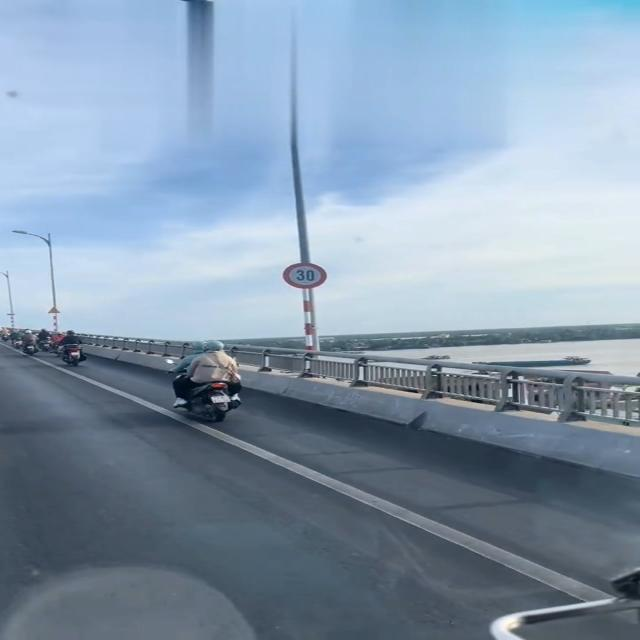127-toc-do-toi-da-30: (282, 262, 326, 290)
